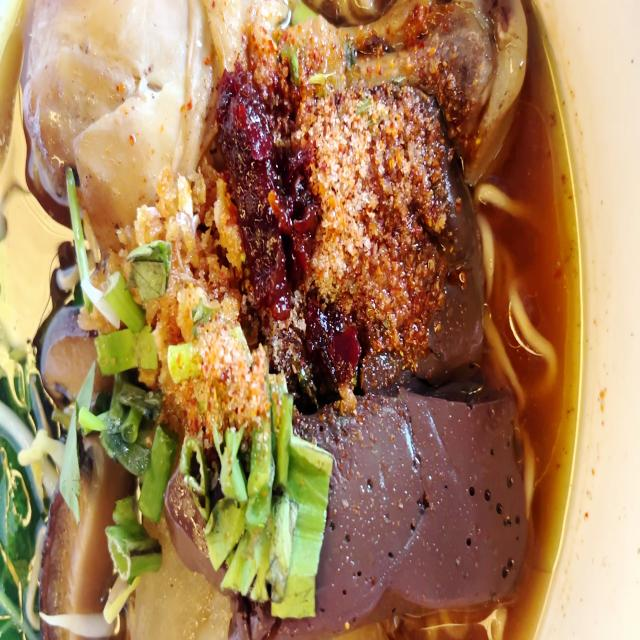boiled_chicken_blood_jelly: (320, 404, 530, 594), (424, 147, 485, 364)
chicken_drumstick: (16, 0, 535, 216)
noodle: (0, 0, 573, 640)
